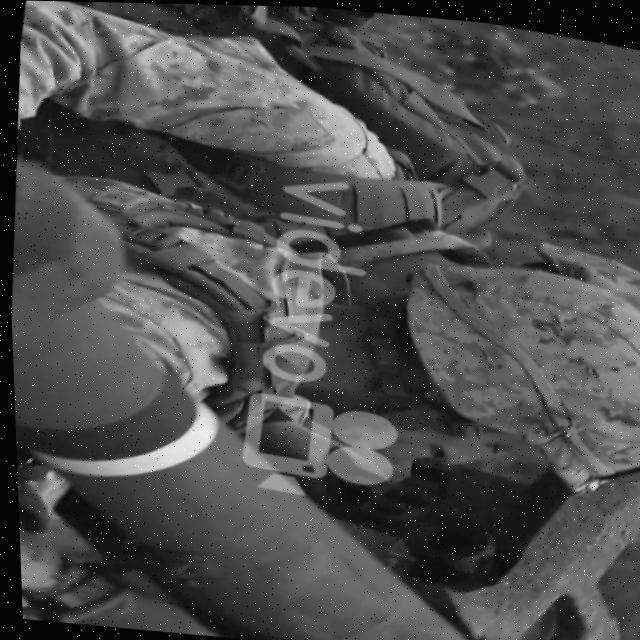rocket: (5, 157, 621, 640)
